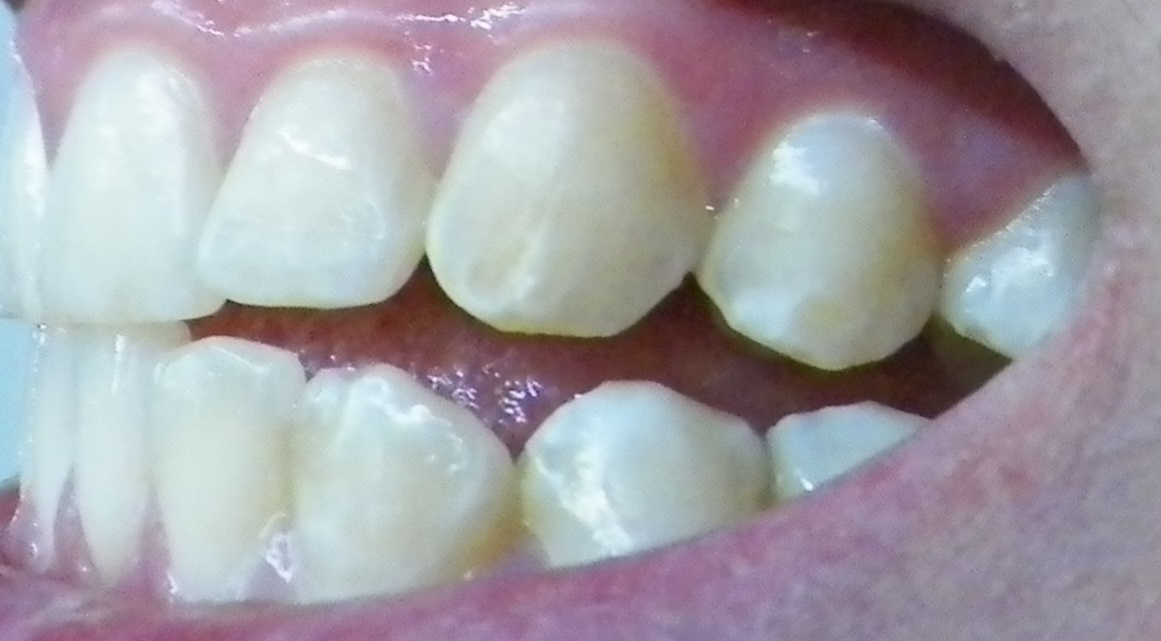boca: (17, 51, 1090, 602)
